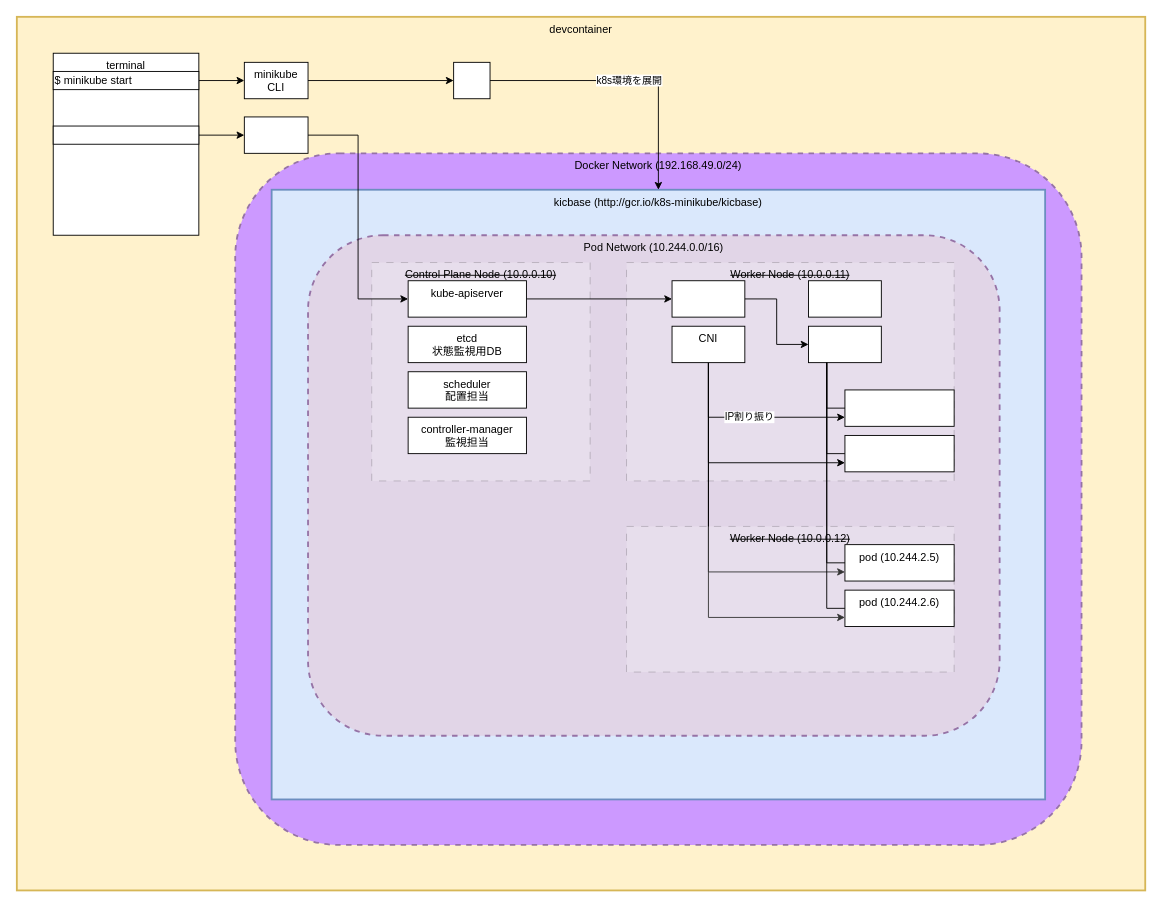
This 1161x906 diagram has some shape labels left out. Each missing label, with the box of its shape:
$ kubectl get pods: (52, 125, 199, 144)
containerd: (808, 325, 881, 363)
docker: (453, 61, 490, 99)
kube-proxy IPテーブル: (808, 280, 881, 317)
kubectl: (243, 116, 308, 153)
kubelet: (671, 280, 745, 317)
pod (10.244.1.5): (844, 389, 954, 426)
pod (10.244.1.6): (844, 435, 954, 472)
